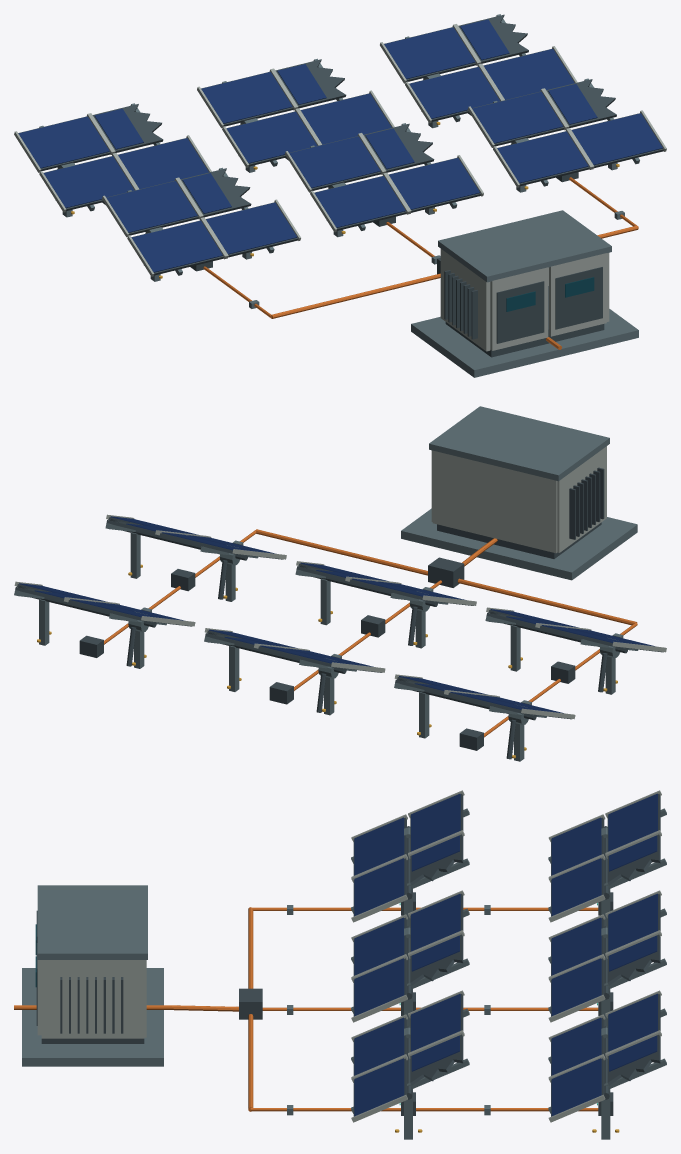
Rendered from solar_power_complex_d1.glb.
3 views of the same model, one above another, from view 1: azimuth 30°, elevation 25°; view 2: azimuth 150°, elevation 25°; view 3: azimuth 270°, elevation 25° (orthographic). The views are drawn at different scales.
Parts seen in each view (by area): view 1: SOLAR_GAME_MESH, SOLAR_GAME_MESH_001, SOLAR_GAME_MESH_003, SOLAR_GAME_MESH_002, SOLAR_GAME_MESH_005, SOLAR_GAME_MESH_006, SOLAR_GAME_MESH_004; view 2: SOLAR_GAME_MESH, SOLAR_GAME_MESH_003, SOLAR_GAME_MESH_001, SOLAR_GAME_MESH_006, SOLAR_GAME_MESH_004, SOLAR_GAME_MESH_002, SOLAR_GAME_MESH_005; view 3: SOLAR_GAME_MESH, SOLAR_GAME_MESH_006, SOLAR_GAME_MESH_004, SOLAR_GAME_MESH_005, SOLAR_GAME_MESH_001, SOLAR_GAME_MESH_003, SOLAR_GAME_MESH_002.
Boxes of the visible parts, bbox=[...] form: SOLAR_GAME_MESH: bbox=[55, 73, 638, 377]; SOLAR_GAME_MESH_001: bbox=[102, 167, 300, 276]; SOLAR_GAME_MESH_003: bbox=[467, 78, 666, 187]; SOLAR_GAME_MESH_002: bbox=[285, 123, 483, 232]; SOLAR_GAME_MESH_005: bbox=[197, 58, 394, 167]; SOLAR_GAME_MESH_006: bbox=[380, 14, 577, 123]; SOLAR_GAME_MESH_004: bbox=[14, 103, 211, 212]; SOLAR_GAME_MESH: bbox=[32, 406, 637, 761]; SOLAR_GAME_MESH_003: bbox=[105, 514, 286, 559]; SOLAR_GAME_MESH_001: bbox=[485, 607, 666, 652]; SOLAR_GAME_MESH_006: bbox=[14, 581, 195, 626]; SOLAR_GAME_MESH_004: bbox=[394, 674, 575, 719]; SOLAR_GAME_MESH_002: bbox=[295, 561, 476, 605]; SOLAR_GAME_MESH_005: bbox=[204, 628, 385, 672]; SOLAR_GAME_MESH: bbox=[14, 826, 619, 1139]; SOLAR_GAME_MESH_006: bbox=[548, 990, 666, 1122]; SOLAR_GAME_MESH_004: bbox=[548, 790, 666, 922]; SOLAR_GAME_MESH_005: bbox=[548, 890, 666, 1022]; SOLAR_GAME_MESH_001: bbox=[351, 790, 469, 922]; SOLAR_GAME_MESH_003: bbox=[351, 990, 469, 1122]; SOLAR_GAME_MESH_002: bbox=[351, 890, 469, 1022].
Size of the model in its own units: 16.88 by 2.86 by 16.55.
